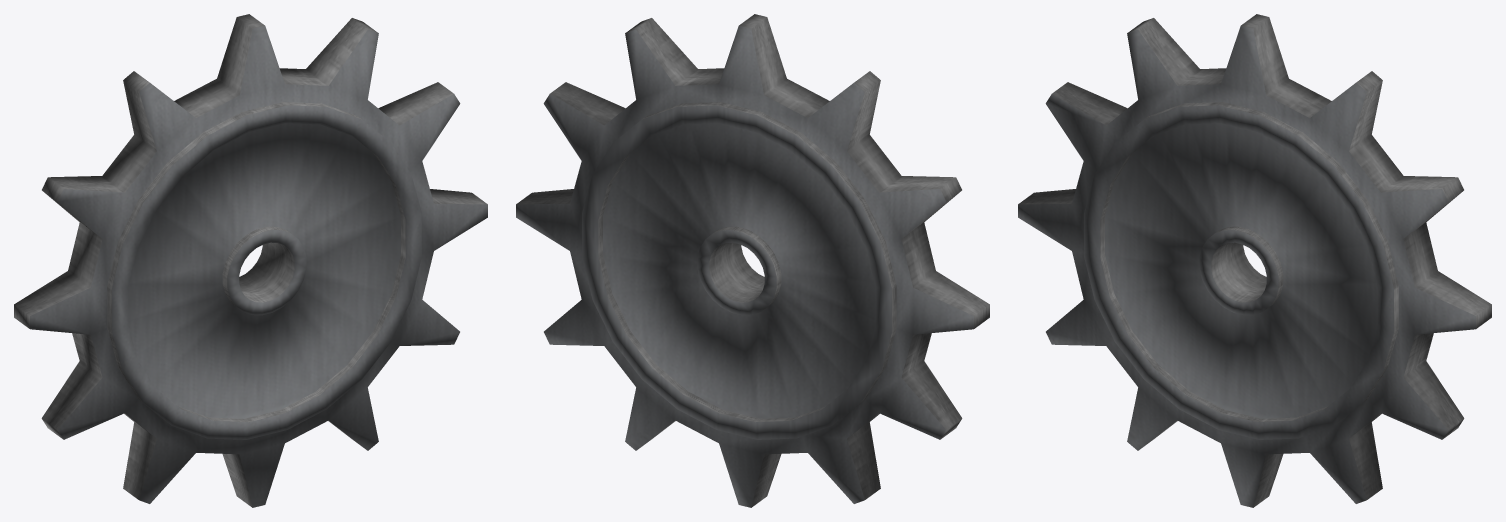
3 renders of one model, left to right at view 1: azimuth 30°, elevation 25°; view 2: azimuth 150°, elevation 25°; view 3: azimuth 330°, elevation 25°, orthographic.
Visible parts, largest first — view 1: gear_12_Circle.005; view 2: gear_12_Circle.005; view 3: gear_12_Circle.005.
Part boxes in pixels (<box>): gear_12_Circle.005: <box>14,14,487,507</box>; gear_12_Circle.005: <box>516,14,989,507</box>; gear_12_Circle.005: <box>1018,14,1491,507</box>.
Bounding box in the file's own units: 2.31 × 2.31 × 0.28.
1 material, 1 textured.
